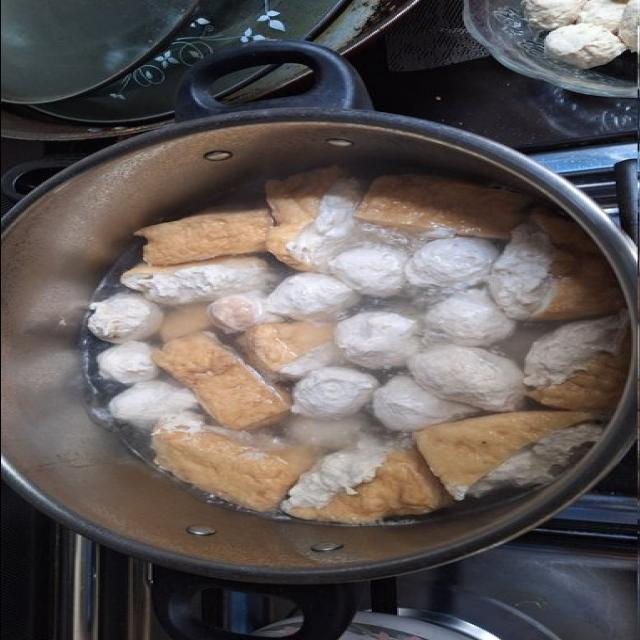bakso: (80, 167, 628, 524)
